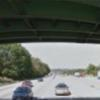cars: (55, 82, 74, 98), (22, 80, 34, 88)
